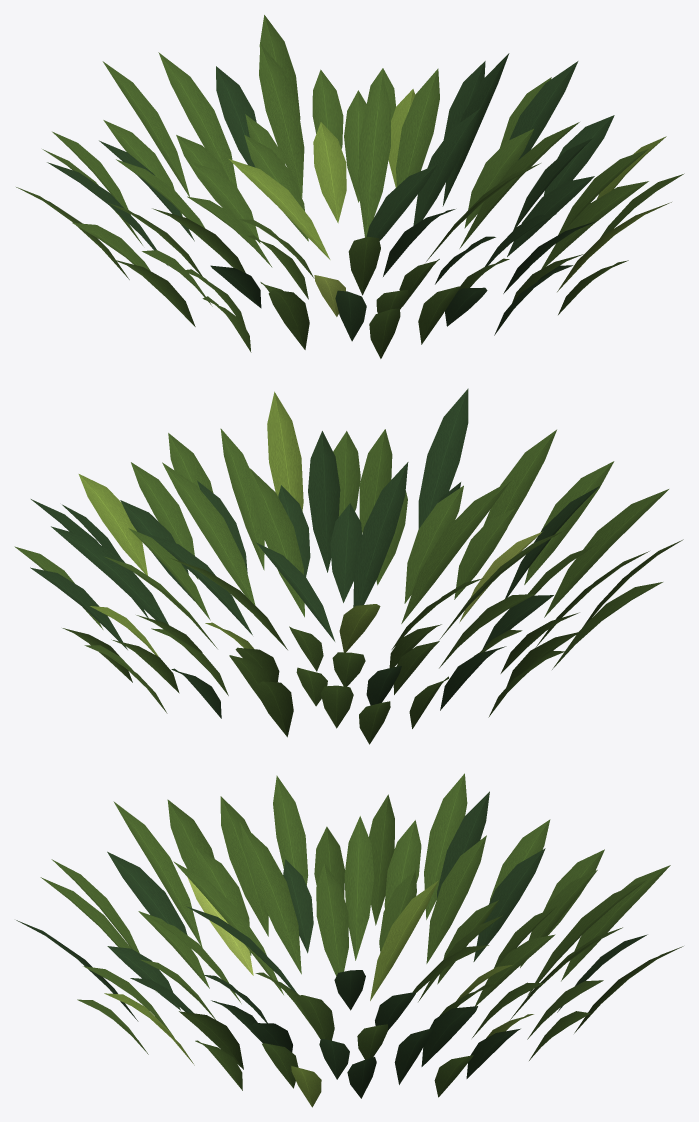
The model's file is warmGroundcover.glb.
3 renders of one model, top to bottom at view 1: azimuth 30°, elevation 25°; view 2: azimuth 150°, elevation 25°; view 3: azimuth 270°, elevation 25°, orthographic. The views are drawn at different scales.
Parts seen in each view (by area): view 1: groundcover-foliage; view 2: groundcover-foliage; view 3: groundcover-foliage.
Part boxes in pixels (x1=…): groundcover-foliage: x1=16, y1=15, x2=684, y2=358; groundcover-foliage: x1=14, y1=388, x2=683, y2=744; groundcover-foliage: x1=16, y1=773, x2=683, y2=1107.
Bounding box in the file's own units: 0.7011 × 0.1351 × 0.7379.
Materials: 4 (4 with a texture image).
